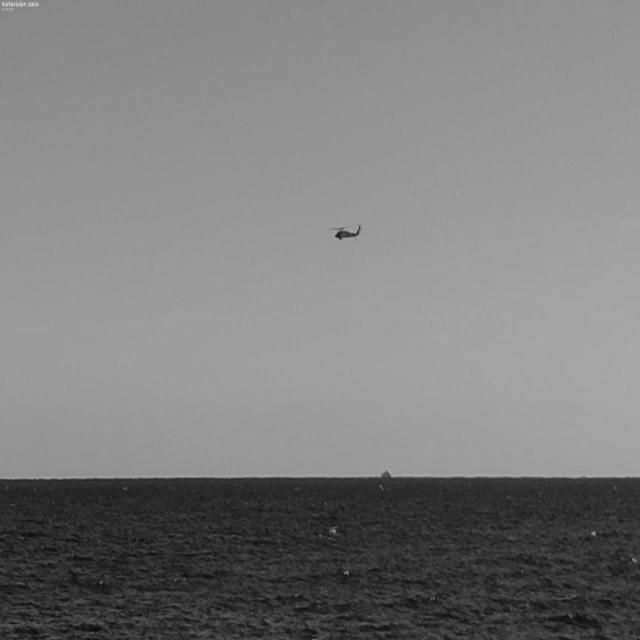helikopter: (303, 186, 391, 280)
